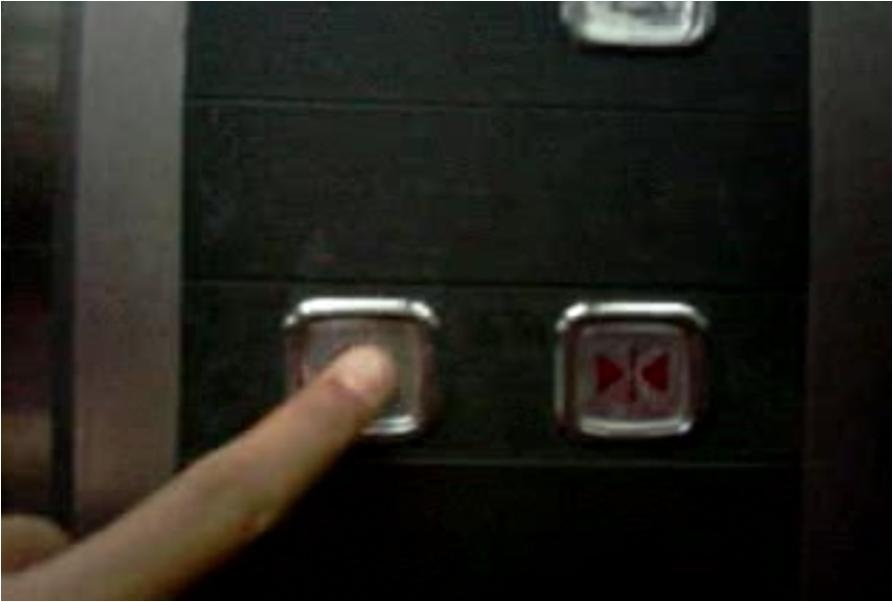close: (549, 297, 712, 440)
